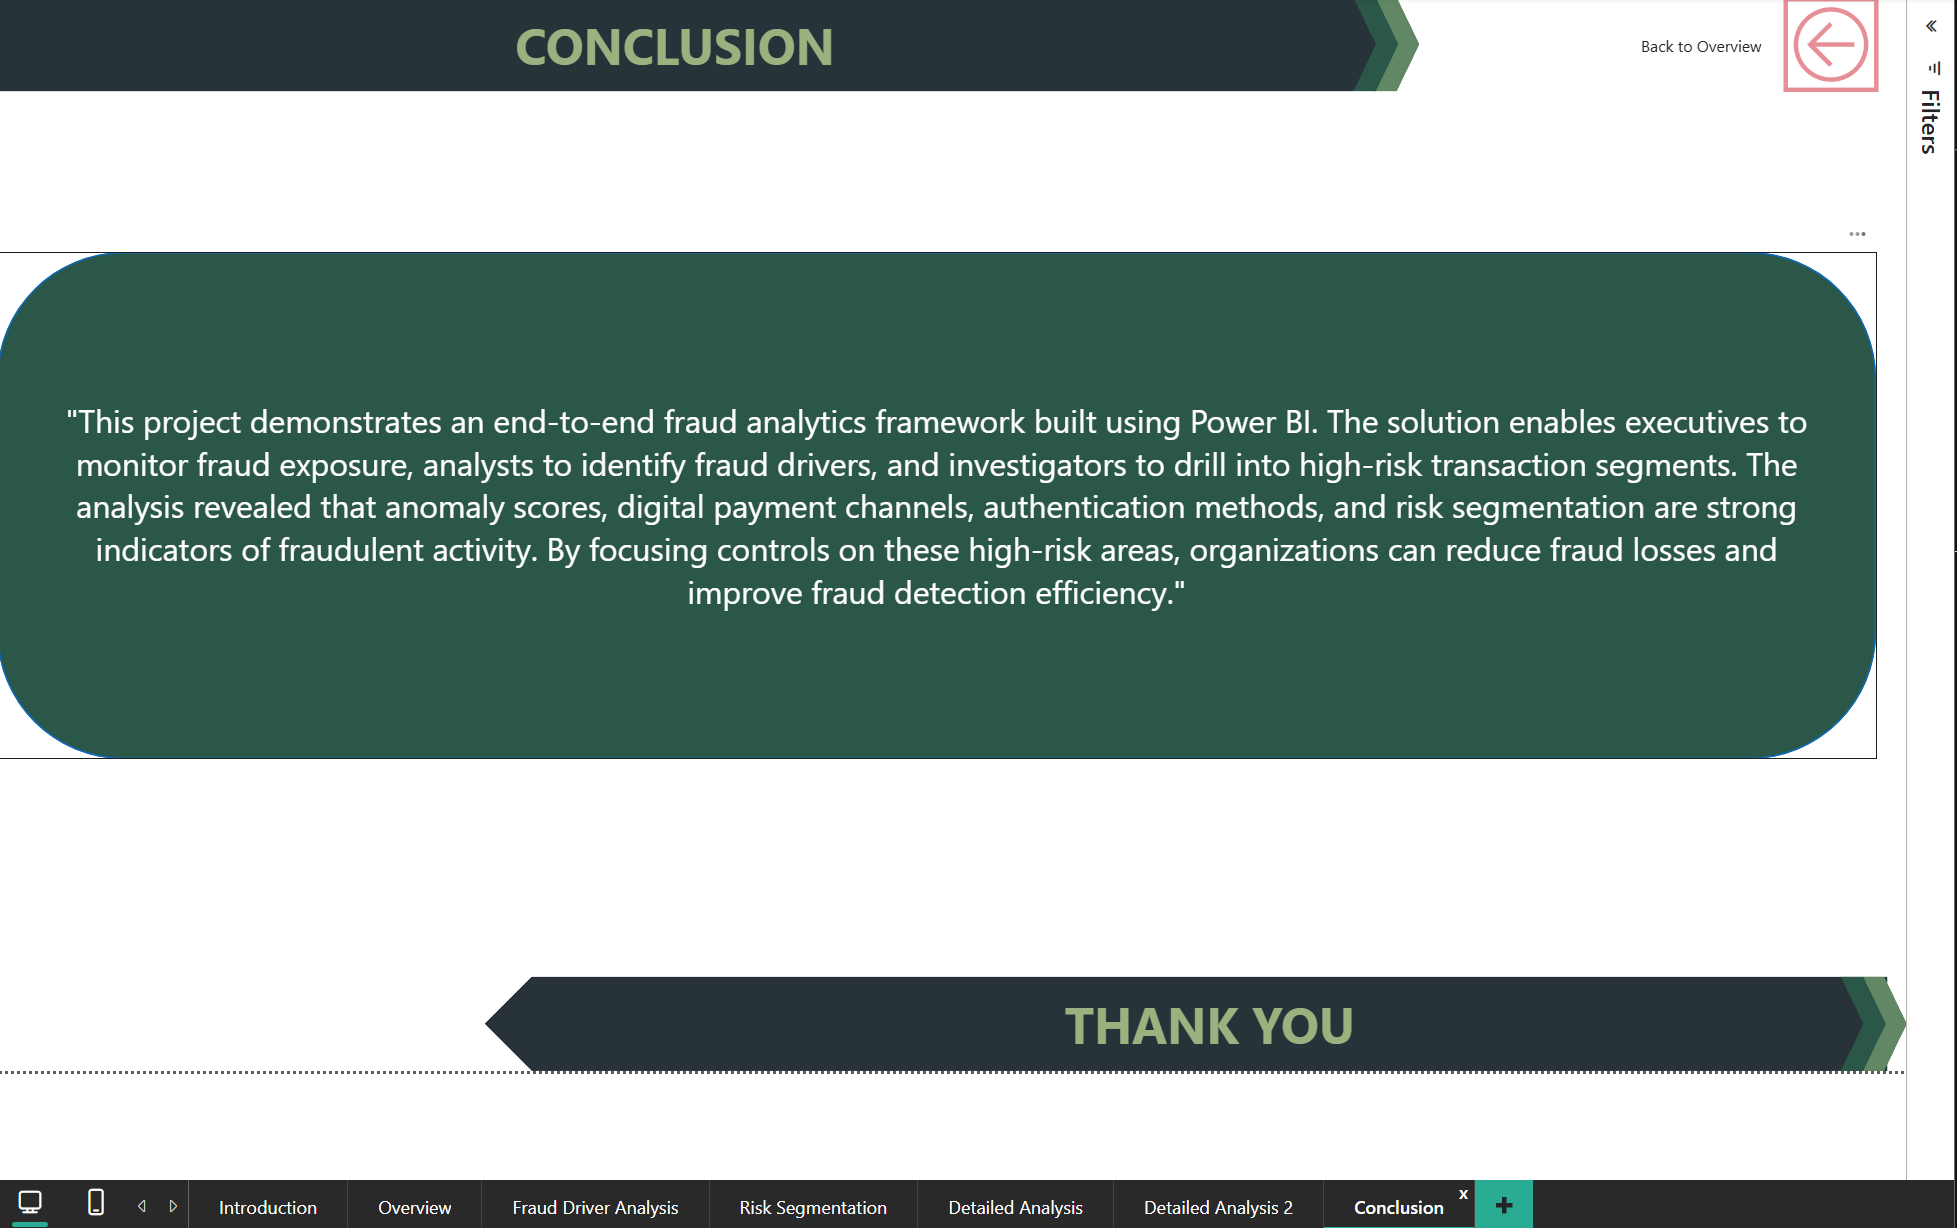

This screenshot's page, from the dashboard's own definition file:
{"tool":"powerbi","page":{"name":"Conclusion","canvas":[1280,720],"ordinal":6},"visuals":[{"type":"group","id":"g1","title":"Group 1","box":[0,0,953.8,63.4],"z":0},{"type":"shape","box":[0,171.1,1260,340],"z":1000},{"type":"group","id":"g2","title":"Group 1","box":[326.7,656.7,953.3,63.3],"z":2000},{"type":"actionButton","box":[1198,0,63.7,63.7],"z":3000},{"type":"textbox","box":[1097.8,16.7,100,30],"z":4000},{"type":"shape","box":[0,0,940.9,63.4],"z":9000,"group":"g1"},{"type":"shape","box":[326.7,656.7,940.9,63.4],"z":9000,"group":"g2"},{"type":"shape","box":[923.3,0,30.5,63.4],"z":10000,"group":"g1"},{"type":"shape","box":[1250,656.7,30.5,63.4],"z":10000,"group":"g2"},{"type":"shape","box":[909.2,0,30.5,63.4],"z":11000,"group":"g1"},{"type":"shape","box":[1235.9,656.7,30.5,63.4],"z":11000,"group":"g2"}]}

Visuals, with their boxes on the page's 1280x720 design canvas (x1, y1, x2, y2). These are canvas units, not pixel positions in the 1957x1228 screenshot, which may show the page scaled, cropped or inside an application window:
"Group 1" group: [0, 0, 954, 63]
shape: [0, 171, 1260, 511]
"Group 1" group: [327, 657, 1280, 720]
actionButton: [1198, 0, 1262, 64]
textbox: [1098, 17, 1198, 47]
shape: [0, 0, 941, 63]
shape: [327, 657, 1268, 720]
shape: [923, 0, 954, 63]
shape: [1250, 657, 1280, 720]
shape: [909, 0, 940, 63]
shape: [1236, 657, 1266, 720]
